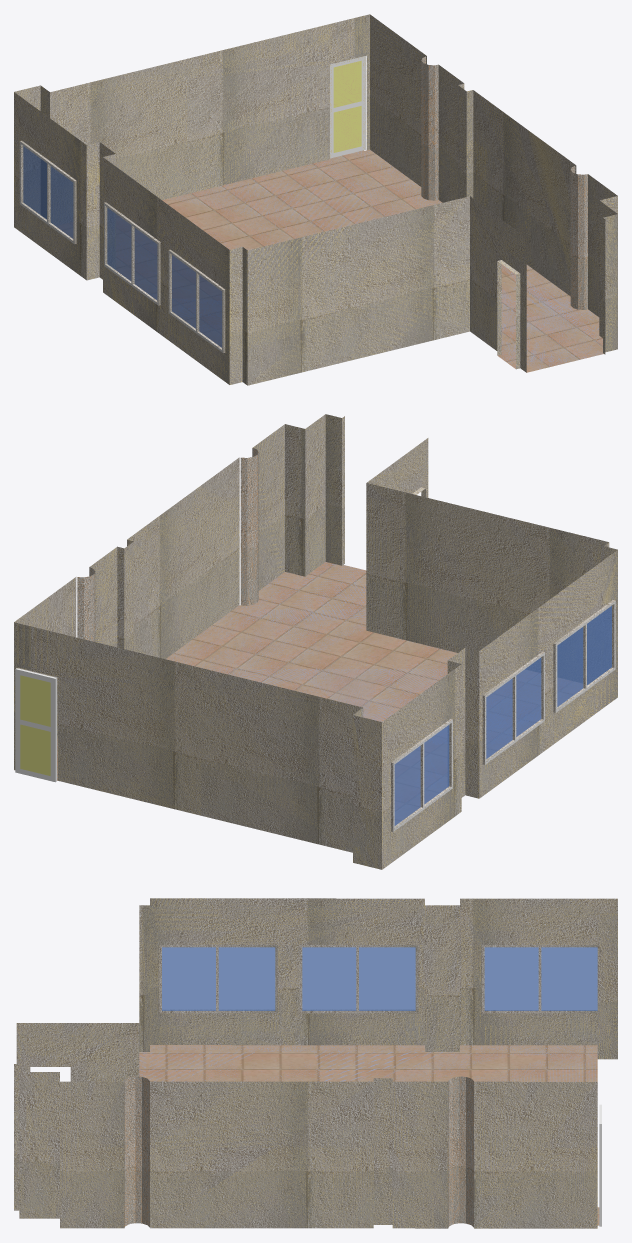
File: LAB041.obj
The picture shows the model from 3 angles, top to bottom: view 1: azimuth 30°, elevation 25°; view 2: azimuth 150°, elevation 25°; view 3: azimuth 270°, elevation 25°; orthographic projection. The views are drawn at different scales.
Parts seen in each view (by area): view 1: Mesh20 LAB041 Model, Mesh6 ventana2_2 LAB041 Model, Mesh11 ventana2_3 LAB041 Model, Mesh1 ventana2_1 LAB041 Model, Mesh16 puerta5_1 LAB041 Model; view 2: Mesh20 LAB041 Model, Mesh1 ventana2_1 LAB041 Model, Mesh6 ventana2_2 LAB041 Model, Mesh11 ventana2_3 LAB041 Model, Mesh16 puerta5_1 LAB041 Model; view 3: Mesh20 LAB041 Model, Mesh1 ventana2_1 LAB041 Model, Mesh6 ventana2_2 LAB041 Model, Mesh11 ventana2_3 LAB041 Model.
Part boxes in pixels (<box>): Mesh20 LAB041 Model: <box>14,14,617,385</box>; Mesh6 ventana2_2 LAB041 Model: <box>168,249,225,353</box>; Mesh11 ventana2_3 LAB041 Model: <box>19,140,76,244</box>; Mesh1 ventana2_1 LAB041 Model: <box>104,202,160,305</box>; Mesh16 puerta5_1 LAB041 Model: <box>330,56,365,158</box>; Mesh20 LAB041 Model: <box>14,414,617,869</box>; Mesh1 ventana2_1 LAB041 Model: <box>482,651,544,764</box>; Mesh6 ventana2_2 LAB041 Model: <box>553,600,615,712</box>; Mesh11 ventana2_3 LAB041 Model: <box>391,719,452,831</box>; Mesh16 puerta5_1 LAB041 Model: <box>15,668,56,782</box>; Mesh20 LAB041 Model: <box>14,898,617,1228</box>; Mesh1 ventana2_1 LAB041 Model: <box>299,945,418,1013</box>; Mesh6 ventana2_2 LAB041 Model: <box>159,945,277,1013</box>; Mesh11 ventana2_3 LAB041 Model: <box>482,945,597,1013</box>.
Bounding box in the file's own units: 8.09 × 3 × 11.2.
9 materials, 2 textured.
